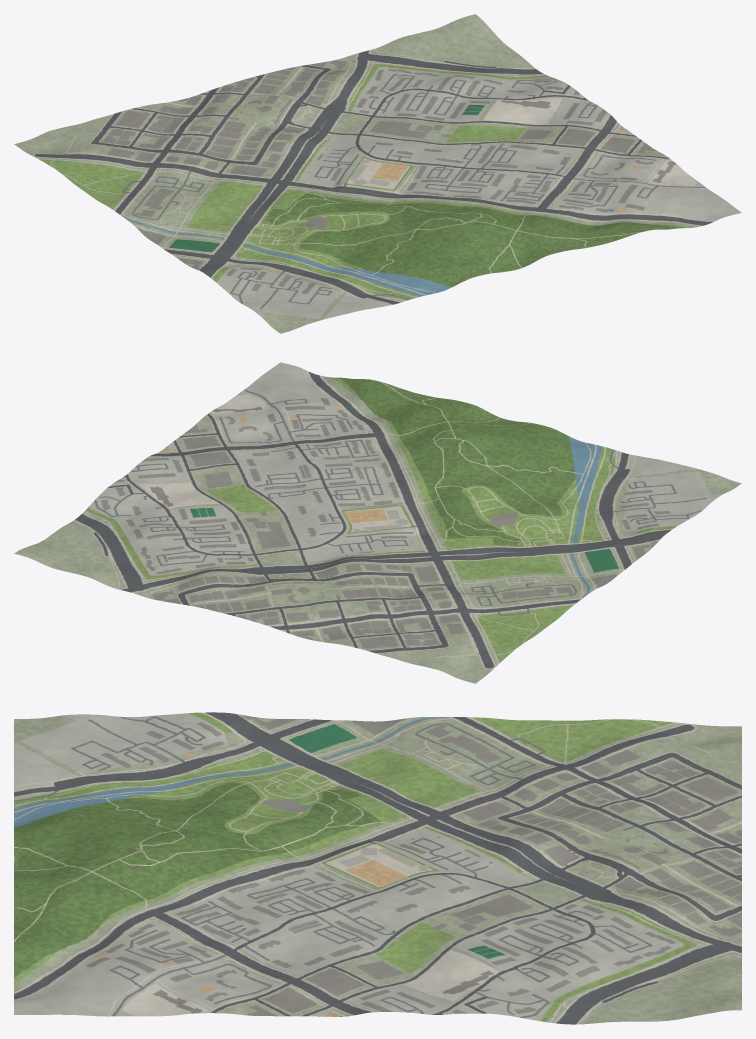
3 renders of one model, top to bottom at view 1: azimuth 30°, elevation 25°; view 2: azimuth 150°, elevation 25°; view 3: azimuth 270°, elevation 25°, orthographic. The views are drawn at different scales.
Visible parts, largest first — view 1: ground-area, ground-school; view 2: ground-area, ground-school; view 3: ground-area, ground-school.
Part boxes in pixels (box(x1,y1,x2,y2)): ground-area: box(14, 14, 741, 333); ground-school: box(304, 143, 449, 203); ground-area: box(14, 362, 741, 683); ground-school: box(304, 486, 449, 552); ground-area: box(14, 712, 741, 1024); ground-school: box(305, 833, 455, 896).
Bounding box in the file's own units: 1088 × 57.99 × 1088.
2 materials, 2 textured.
